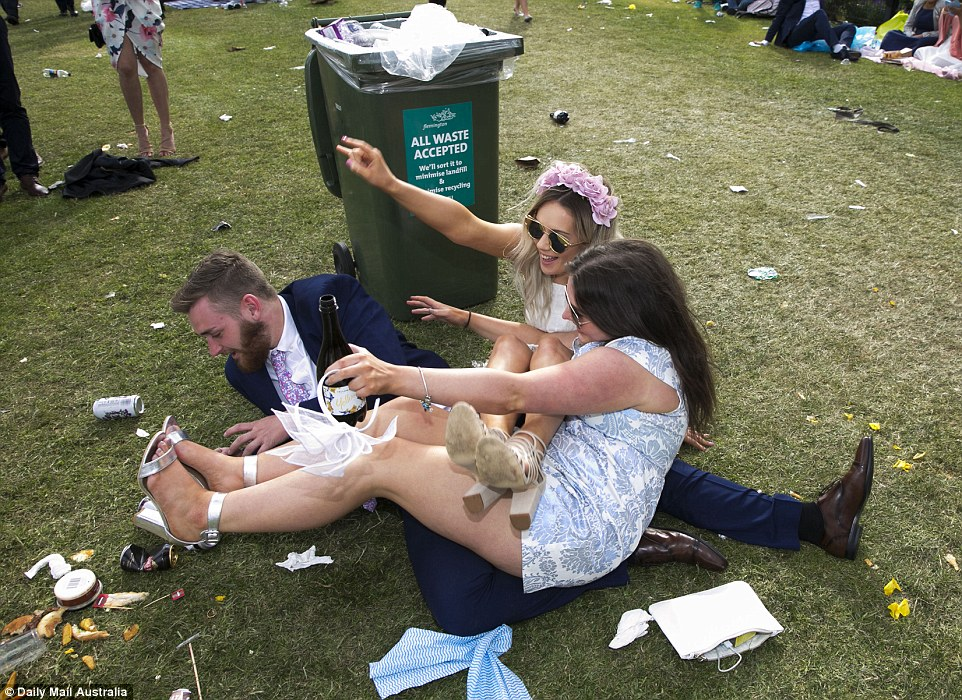Person: (538, 238, 712, 573), (169, 246, 400, 379), (498, 159, 622, 282)
